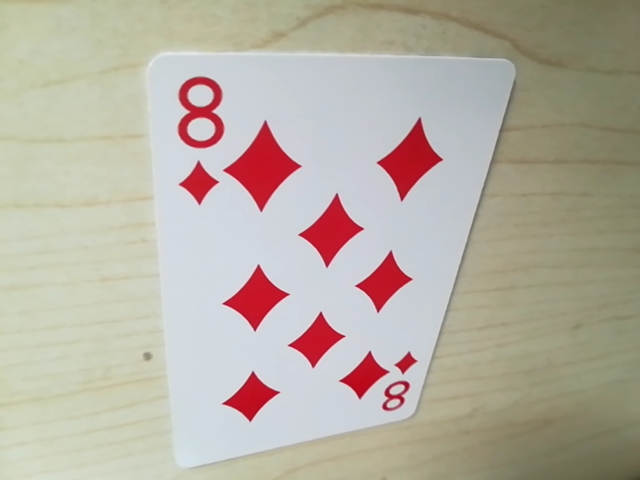fk 8: (163, 69, 231, 213), (369, 366, 417, 418)
